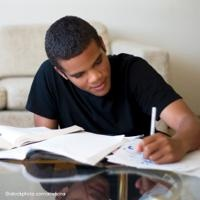person without safety: (31, 11, 190, 128)
